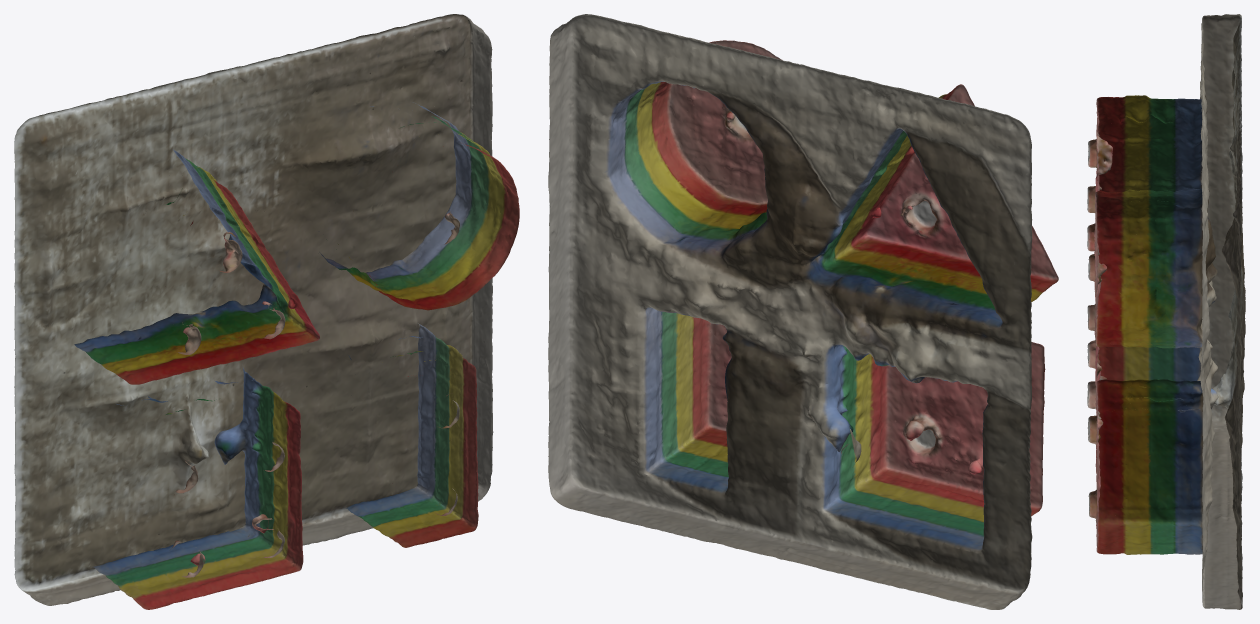
The model's file is sorting_board.glb.
3 views of the same model, side by side, from view 1: azimuth 30°, elevation 25°; view 2: azimuth 150°, elevation 25°; view 3: azimuth 270°, elevation 25° (orthographic). The views are drawn at different scales.
Bounding box in the file's own units: 1 × 0.9916 × 0.3412.
